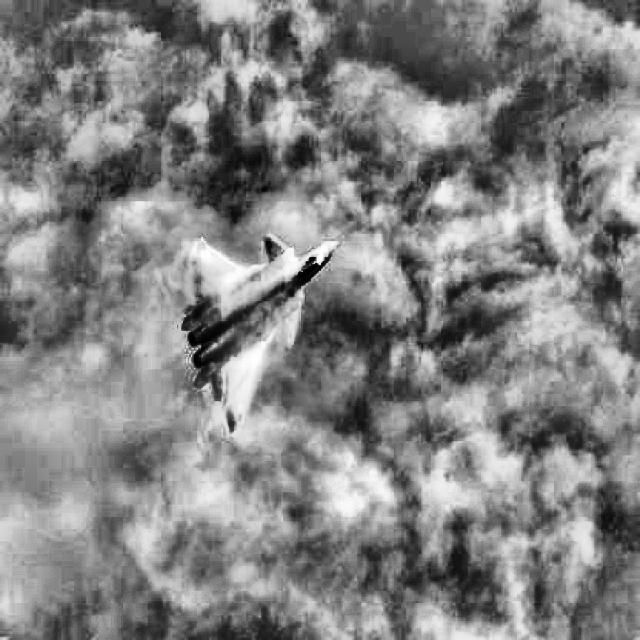J20: (180, 232, 338, 434)
